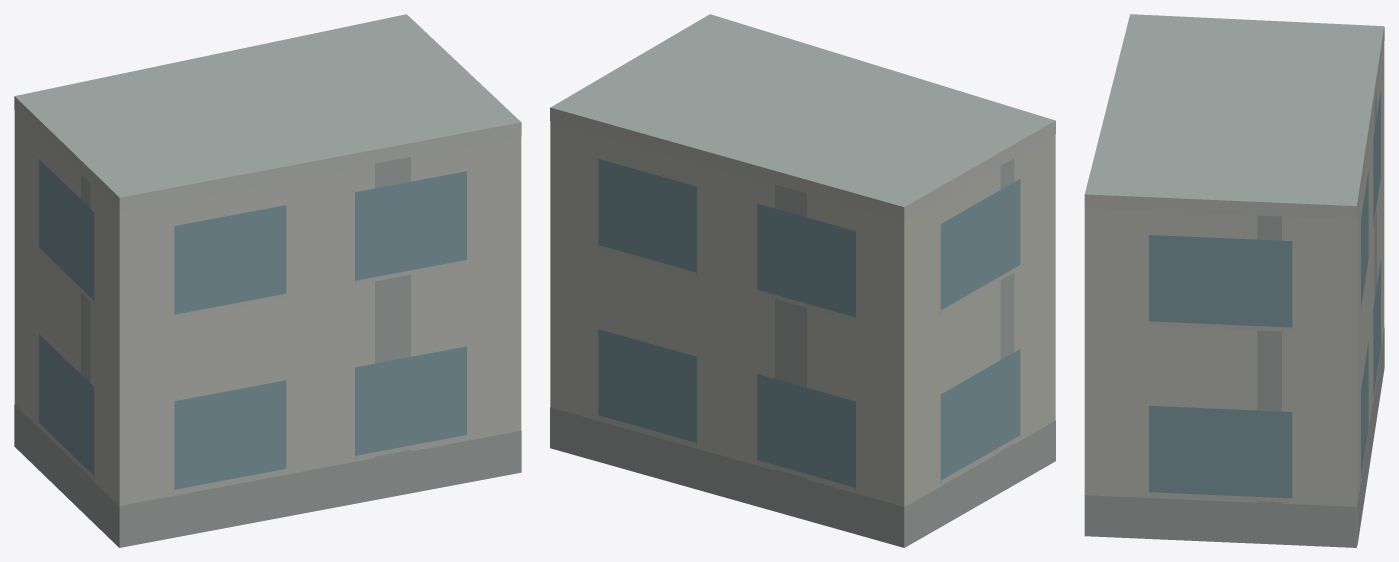
Rendered from survey-upis-32586417.glb.
3 views of the same model, side by side, from view 1: azimuth 30°, elevation 25°; view 2: azimuth 150°, elevation 25°; view 3: azimuth 270°, elevation 25° (orthographic). The views are drawn at different scales.
Parts seen in each view (by area): view 1: survey-upis-32586417.tmp; view 2: survey-upis-32586417.tmp; view 3: survey-upis-32586417.tmp.
Part boxes in pixels (left/top/right/bottom): survey-upis-32586417.tmp: left=14, top=14, right=521, bottom=547; survey-upis-32586417.tmp: left=550, top=14, right=1055, bottom=547; survey-upis-32586417.tmp: left=1084, top=14, right=1384, bottom=547.
Bounding box in the file's own units: 7.36 × 6.1 × 4.86.
